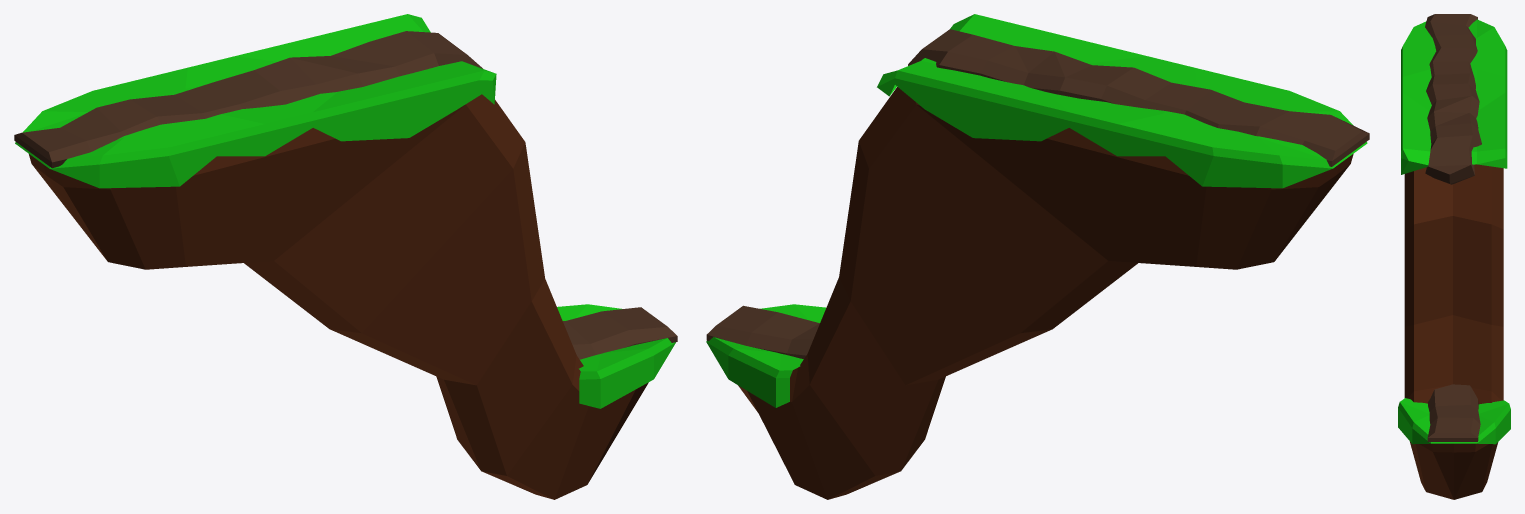
Rendered from block_down1.fbx.
3 views of the same model, side by side, from view 1: azimuth 30°, elevation 25°; view 2: azimuth 150°, elevation 25°; view 3: azimuth 270°, elevation 25° (orthographic). The views are drawn at different scales.
Parts seen in each view (by area): view 1: block_down1; view 2: block_down1; view 3: block_down1.
Boxes of the visible parts, x1,y1,x2,y2 form: block_down1: (14, 14, 677, 499); block_down1: (706, 14, 1369, 499); block_down1: (1398, 14, 1510, 499).
Bounding box in the file's own units: 1661 × 1224 × 388.
